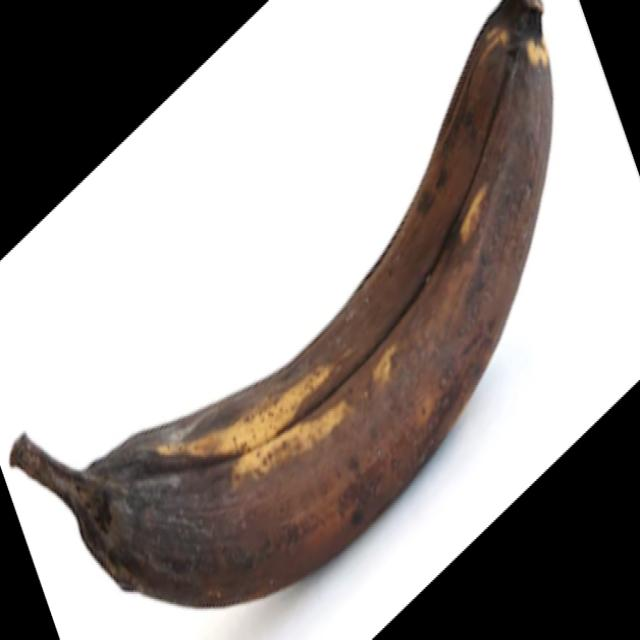Rotten: (3, 0, 558, 616)
